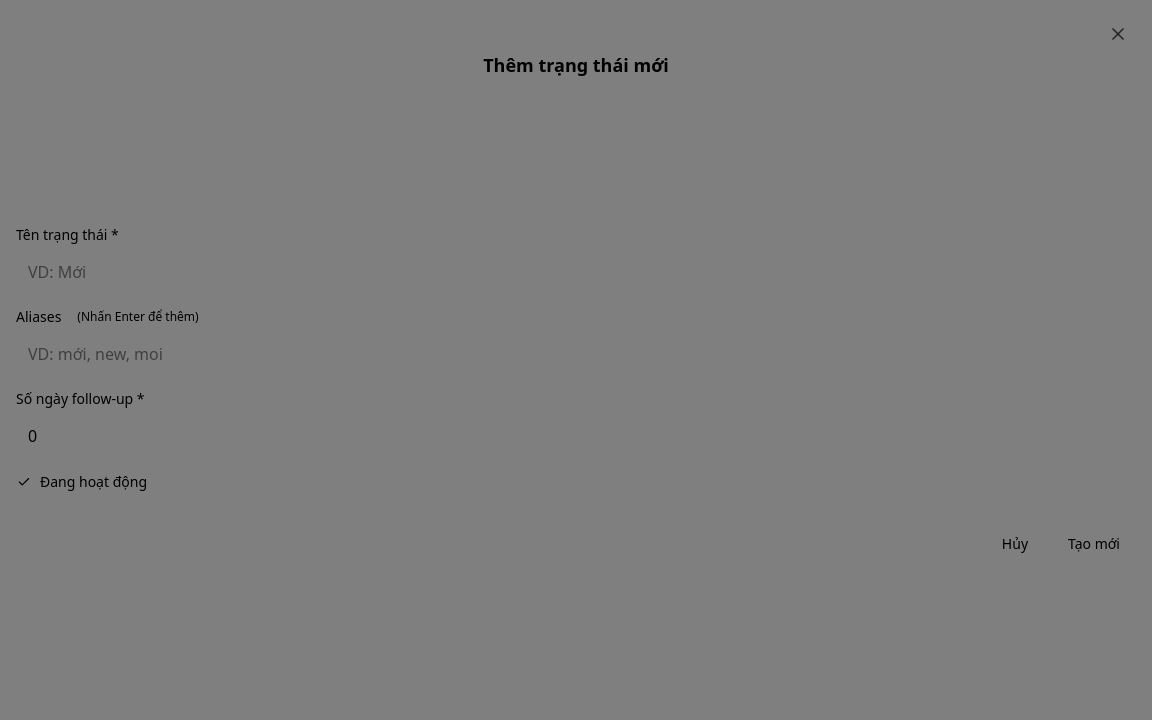
Scenario: FollowUpStatusFormModal › Validation › shows error for negative daysToFollowup
The image size is (1152, 720).
Step 1. Type "Test Status" into the field labelled "Tên trạng thái *" → (576, 272), box [16,250,1136,294]
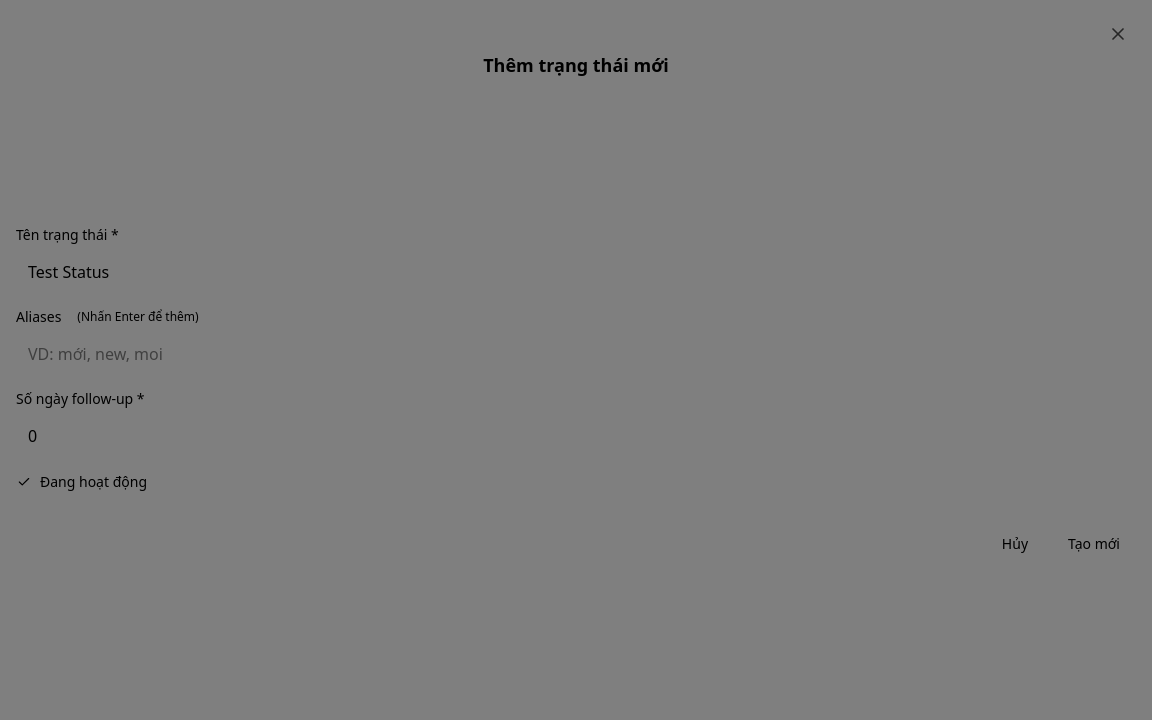
Step 2. Replace the text in the number field labelled "Số ngày follow-up *" with "-1" → (576, 436), box [16,414,1136,458]
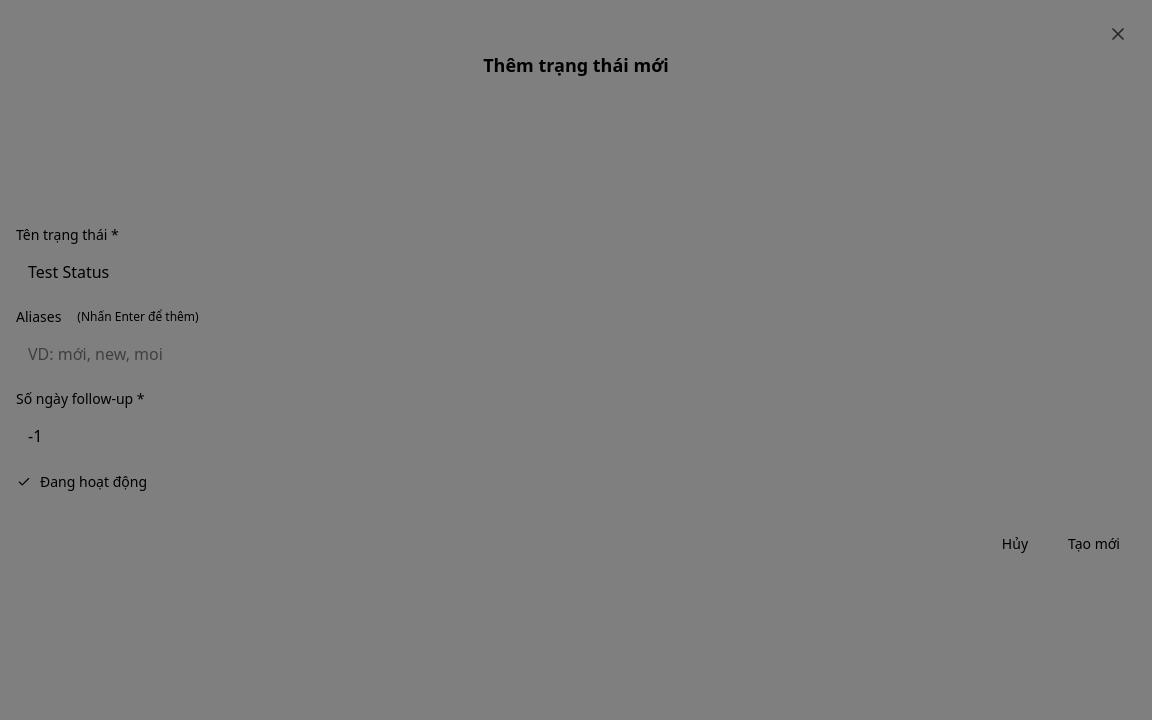
Step 3. Click the button "Tạo mới" → click(1094, 544), box [1052,522,1136,566]
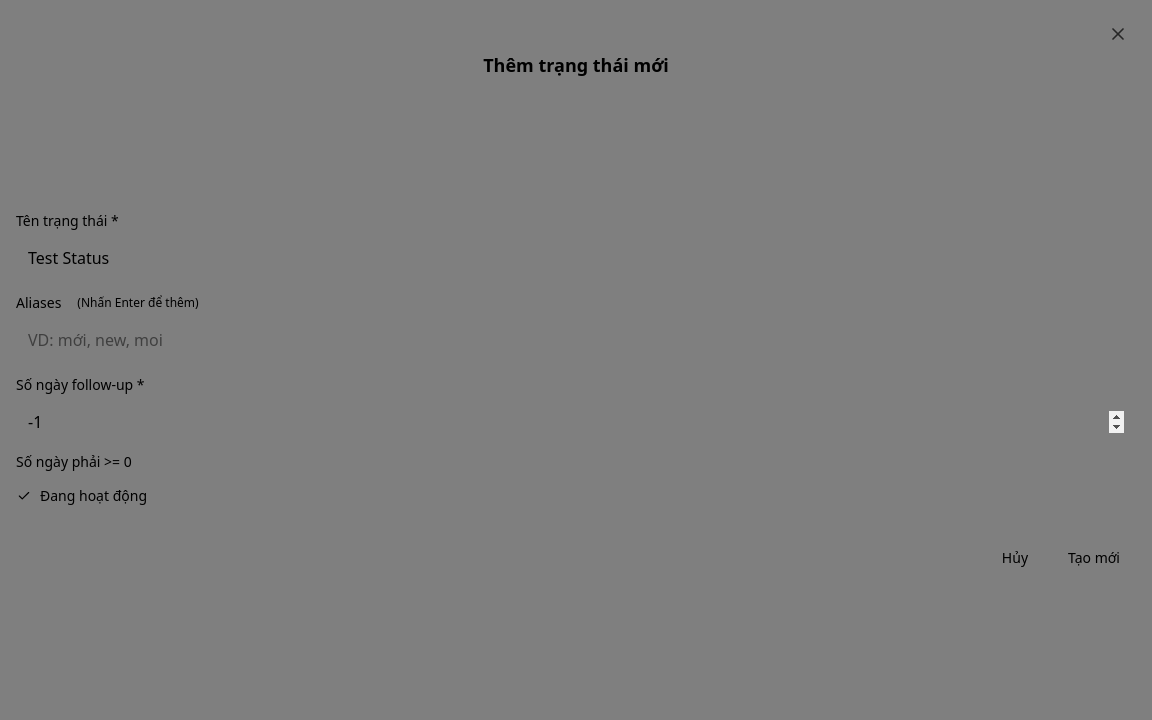
Expected: the text "Số ngày phải >= 0" is shown, [16,452,132,471]
